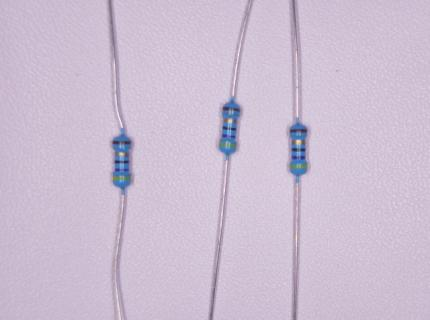Black band: (222, 126, 237, 131), (114, 160, 130, 164), (291, 148, 306, 152)
Brown band: (112, 140, 132, 145), (290, 128, 308, 133), (223, 107, 241, 112)
Gold band: (292, 140, 306, 145), (223, 118, 237, 123), (115, 152, 129, 157)
Violet band: (292, 156, 306, 160), (222, 134, 236, 138), (115, 168, 129, 171)
Yellow band: (219, 142, 237, 147), (113, 176, 131, 181), (290, 164, 307, 169)
